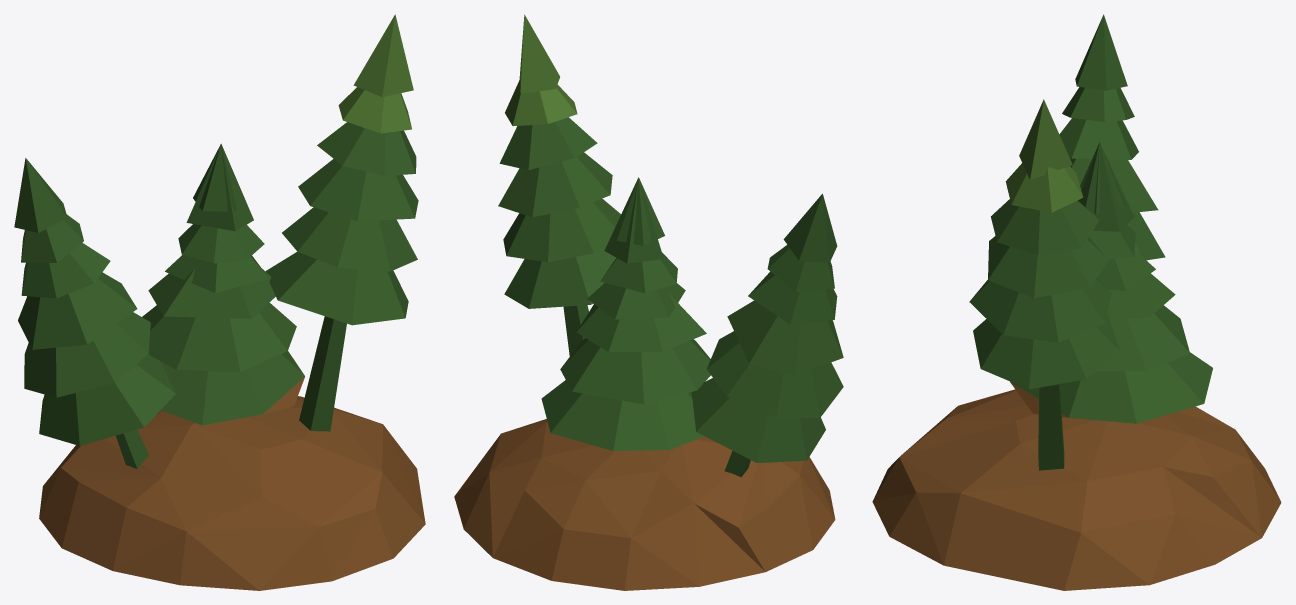
The model's file is prop.tree_b.glb.
3 renders of one model, left to right at view 1: azimuth 30°, elevation 25°; view 2: azimuth 150°, elevation 25°; view 3: azimuth 270°, elevation 25°, orthographic. The views are drawn at different scales.
Visible parts, largest first — view 1: asset; view 2: asset; view 3: asset.
Part boxes in pixels (x1,y1,x2,y2): asset: [14, 14, 425, 590]; asset: [454, 14, 843, 590]; asset: [872, 14, 1281, 590].
Bounding box in the file's own units: 1.87 × 2.2 × 1.71.
